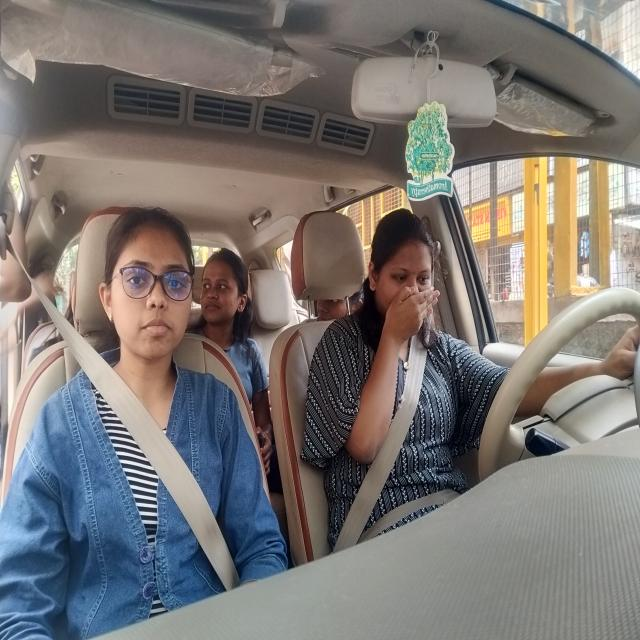drowsy: (367, 210, 439, 346)
person: (99, 200, 198, 368), (201, 246, 253, 328)
